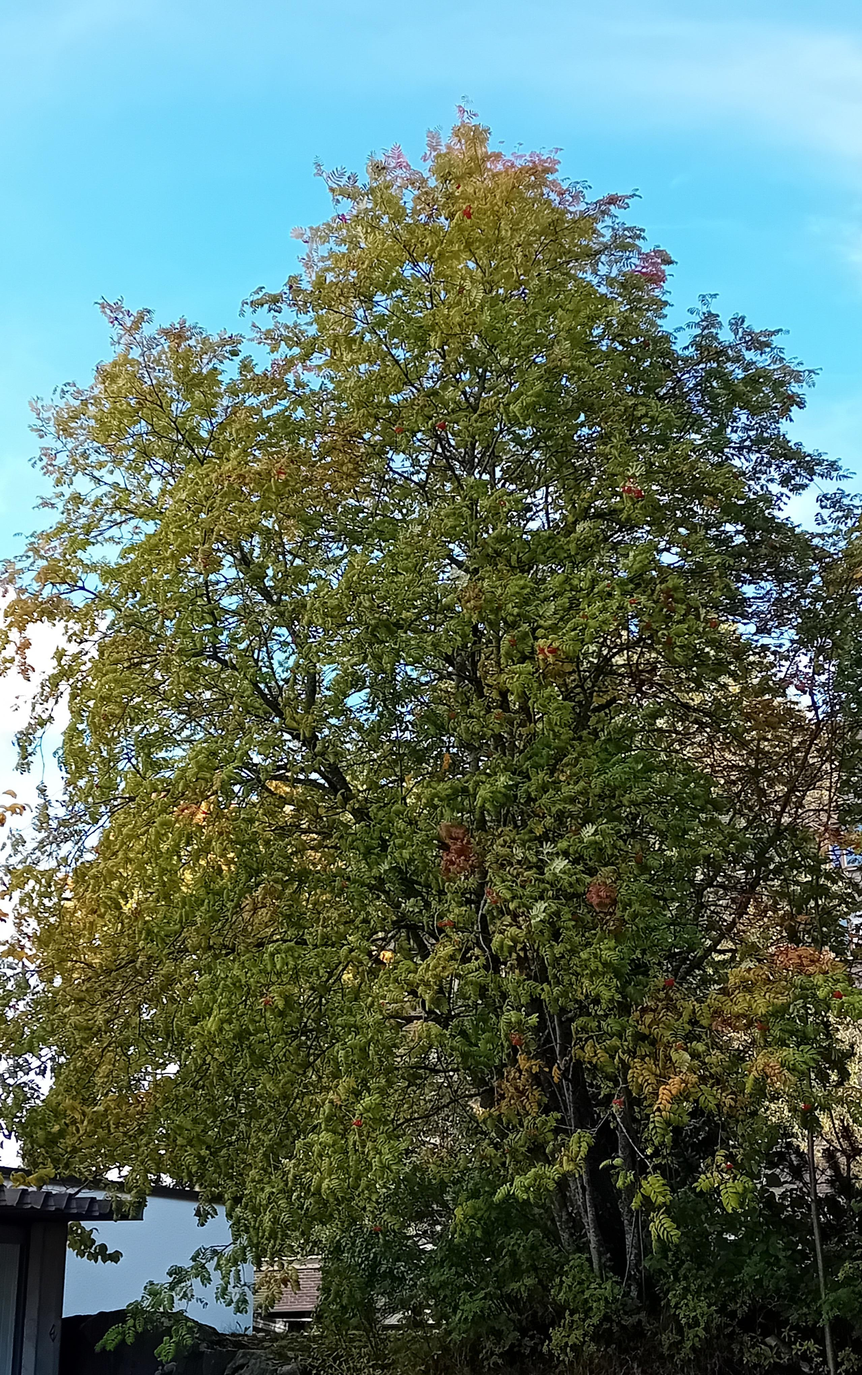Rowan: (2, 96, 860, 1370)
